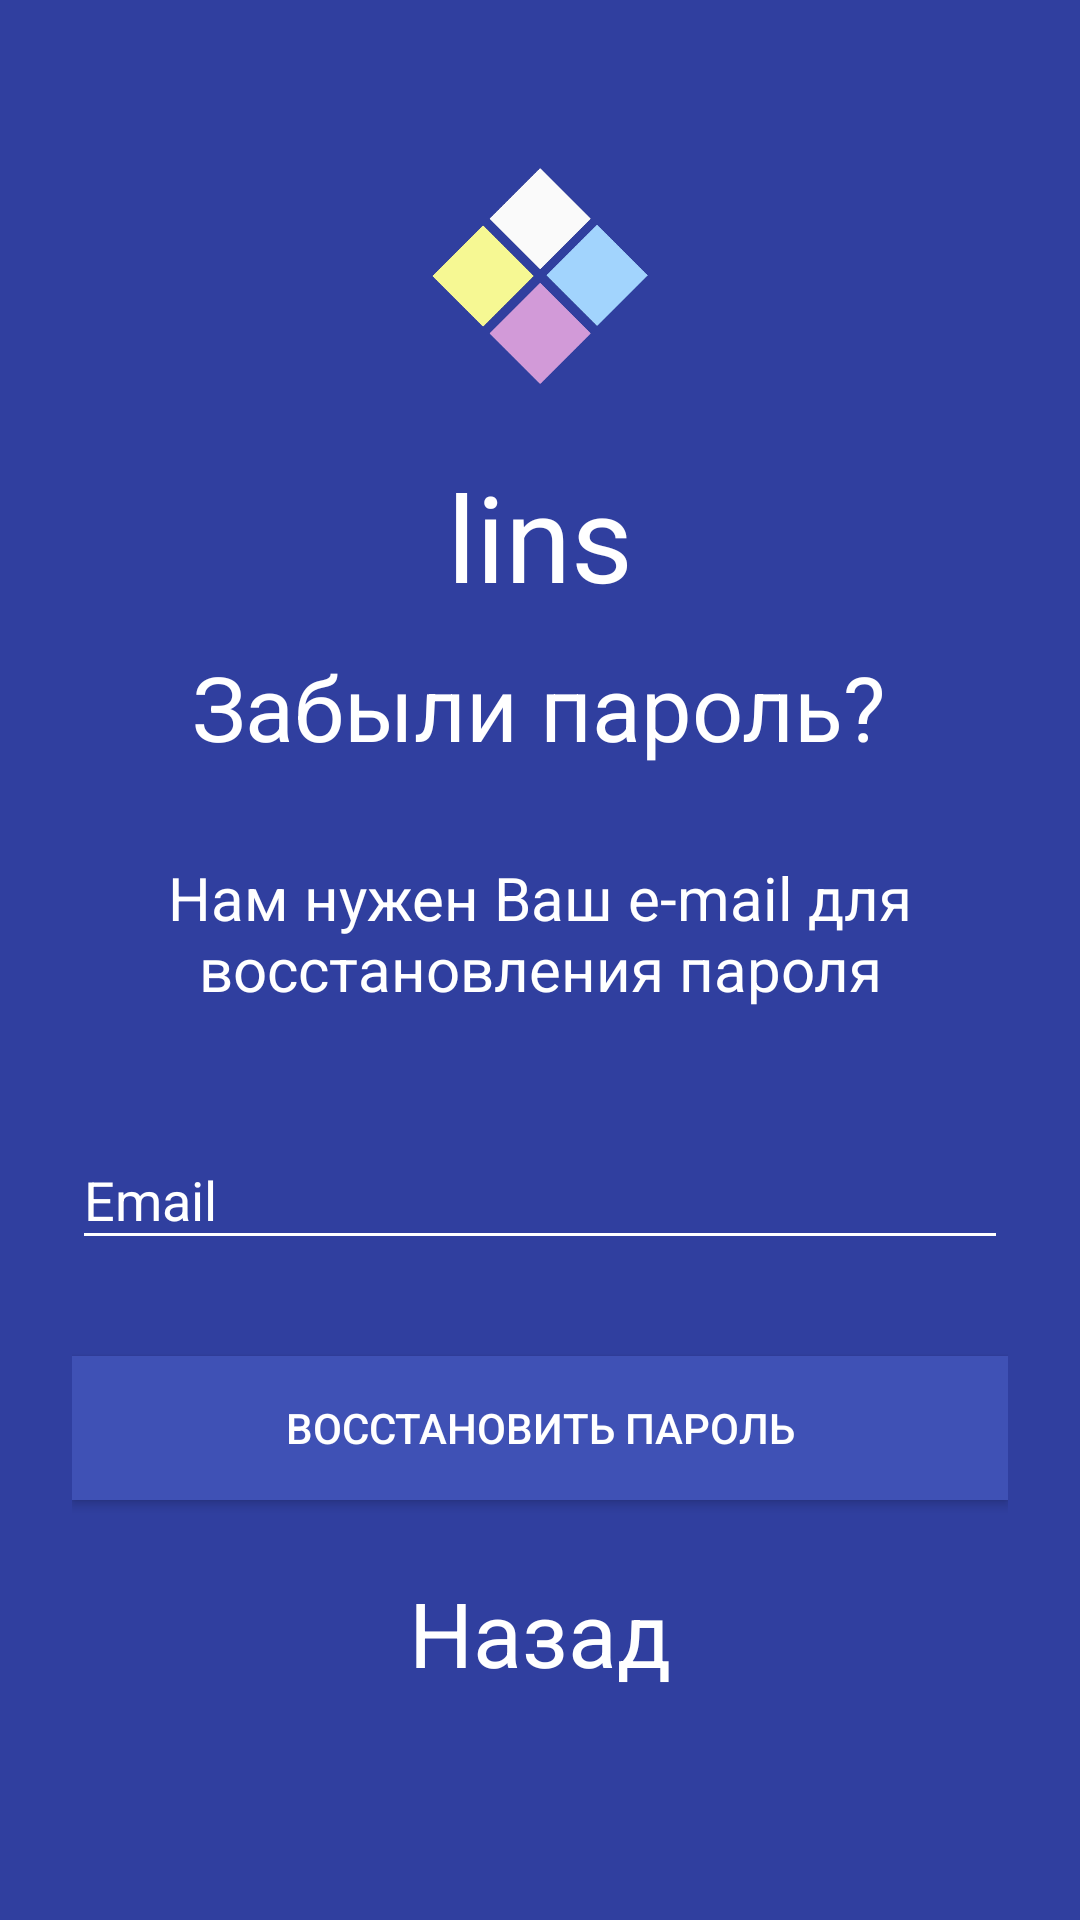

Where to tap for icons on this 1080 × 1920 app screen, as point (x, y):
diam: point (540, 276)
